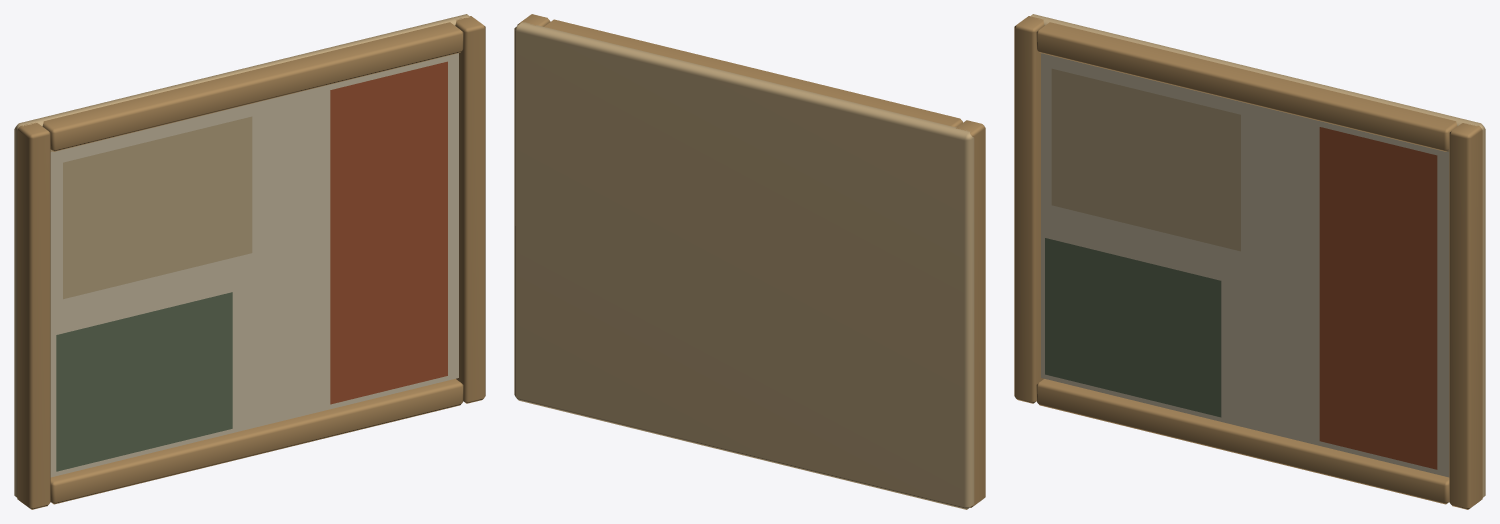
File: abstract_frame_03.glb
3 views of the same model, side by side, from view 1: azimuth 30°, elevation 25°; view 2: azimuth 150°, elevation 25°; view 3: azimuth 330°, elevation 25° (orthographic).
Parts seen in each view (by area): view 1: Body; view 2: Body; view 3: Body.
Part boxes in pixels (x1=…): Body: x1=14, y1=14, x2=485, y2=509; Body: x1=514, y1=14, x2=985, y2=509; Body: x1=1014, y1=14, x2=1485, y2=509.
Size of the model in its own units: 0.7 by 0.55 by 0.05.
